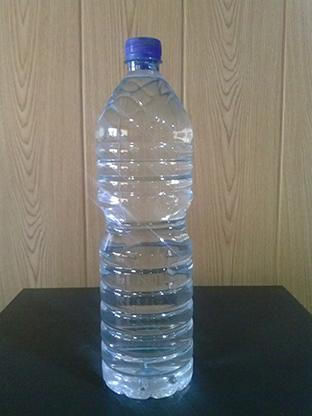Plastic Bottle: (95, 25, 203, 399)
